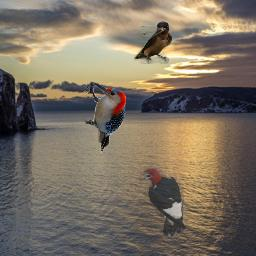Swallow: (134, 21, 172, 64)
Woodpecker: (139, 165, 189, 237), (85, 83, 126, 153)
